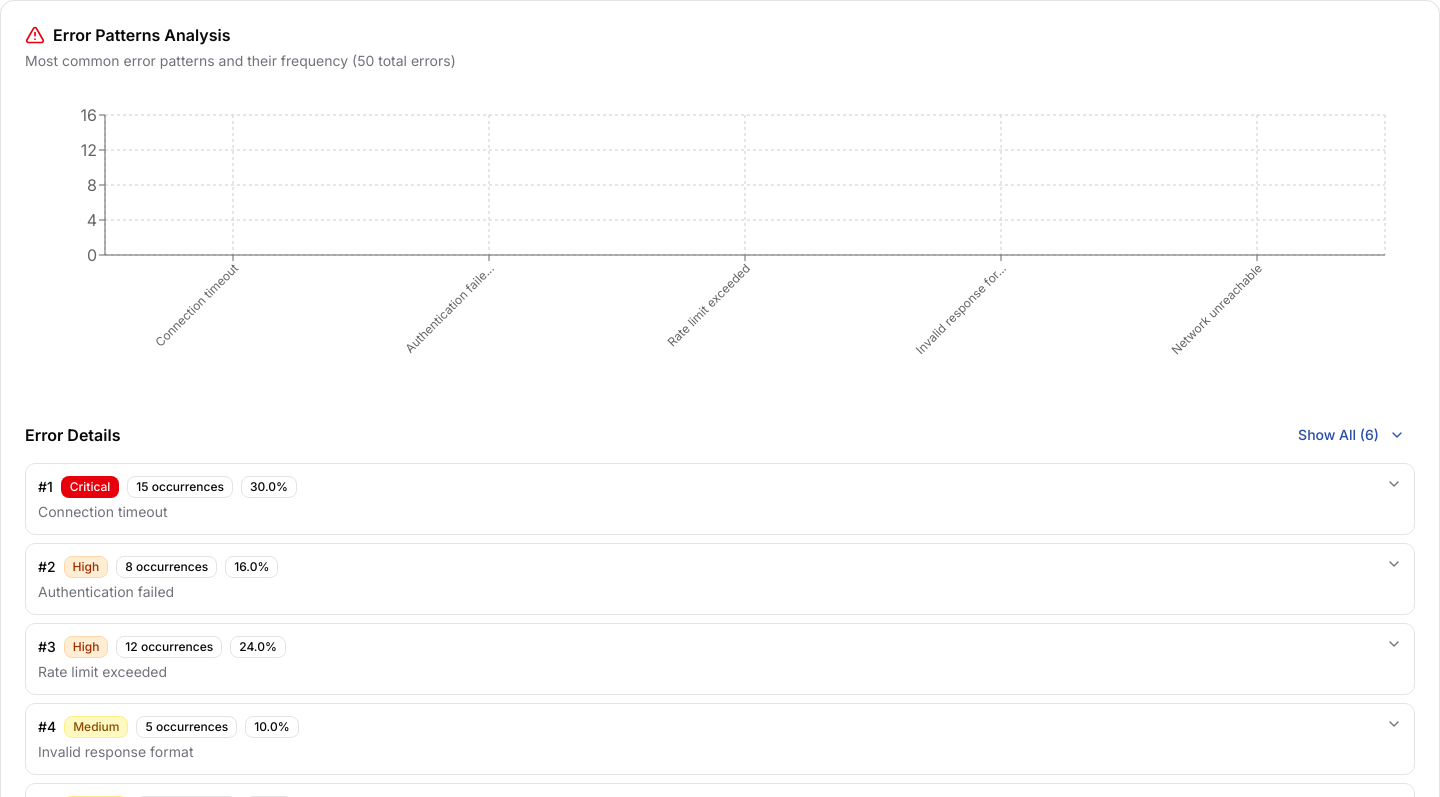
Scenario: ErrorPatternsChart › collapses to show top 5 when "Show Less" is clicked
This screenshot has width=1440, height=797.
# First expand
Click the button "Show All (6)": (1352,435) x1=1288 y1=419 x2=1415 y2=451
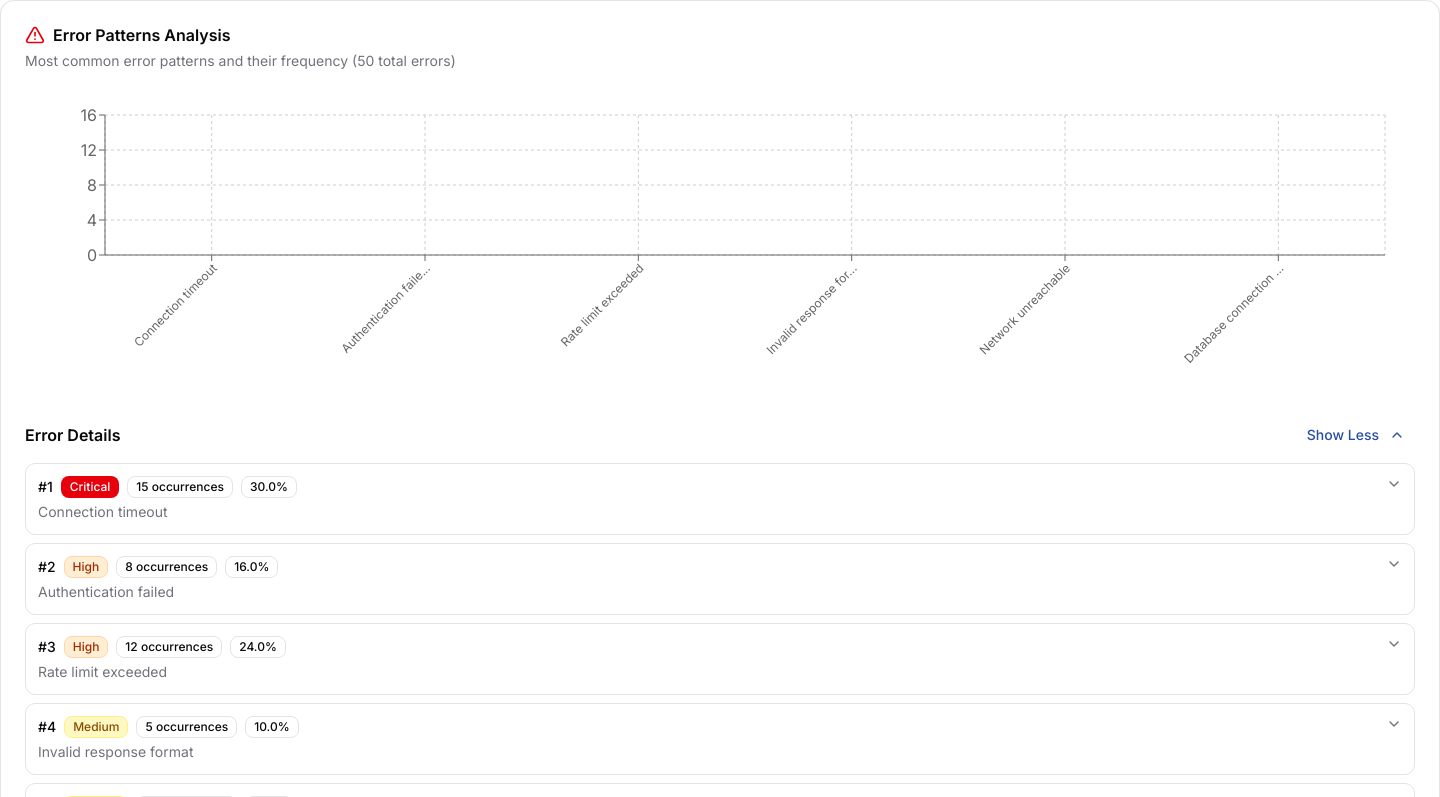
Click the button "Show Less": (1356,435) x1=1297 y1=419 x2=1415 y2=451
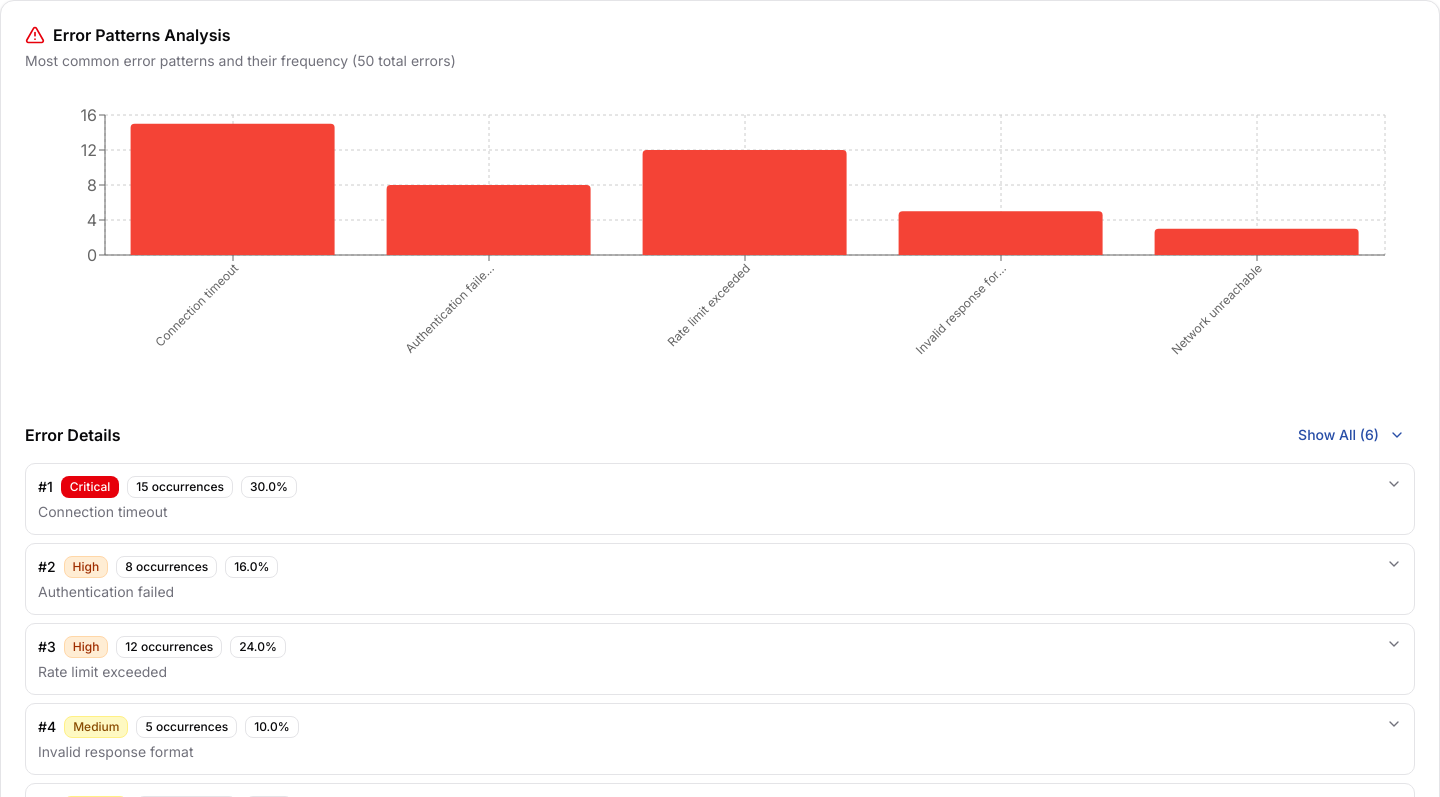
Check: the button "Show All (6)" is shown, box x1=1288 y1=419 x2=1415 y2=451
